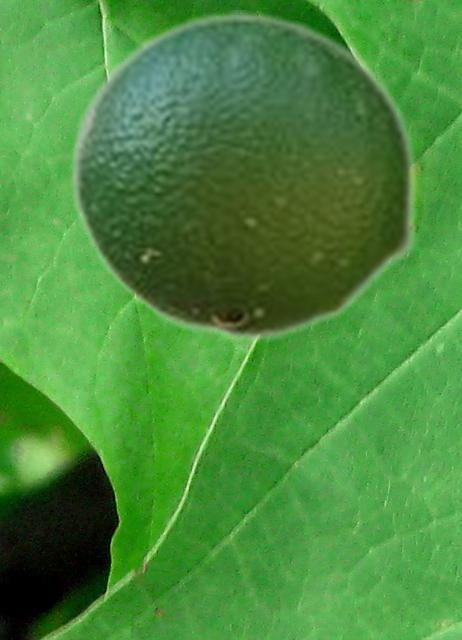dalandan: (69, 10, 418, 343)
